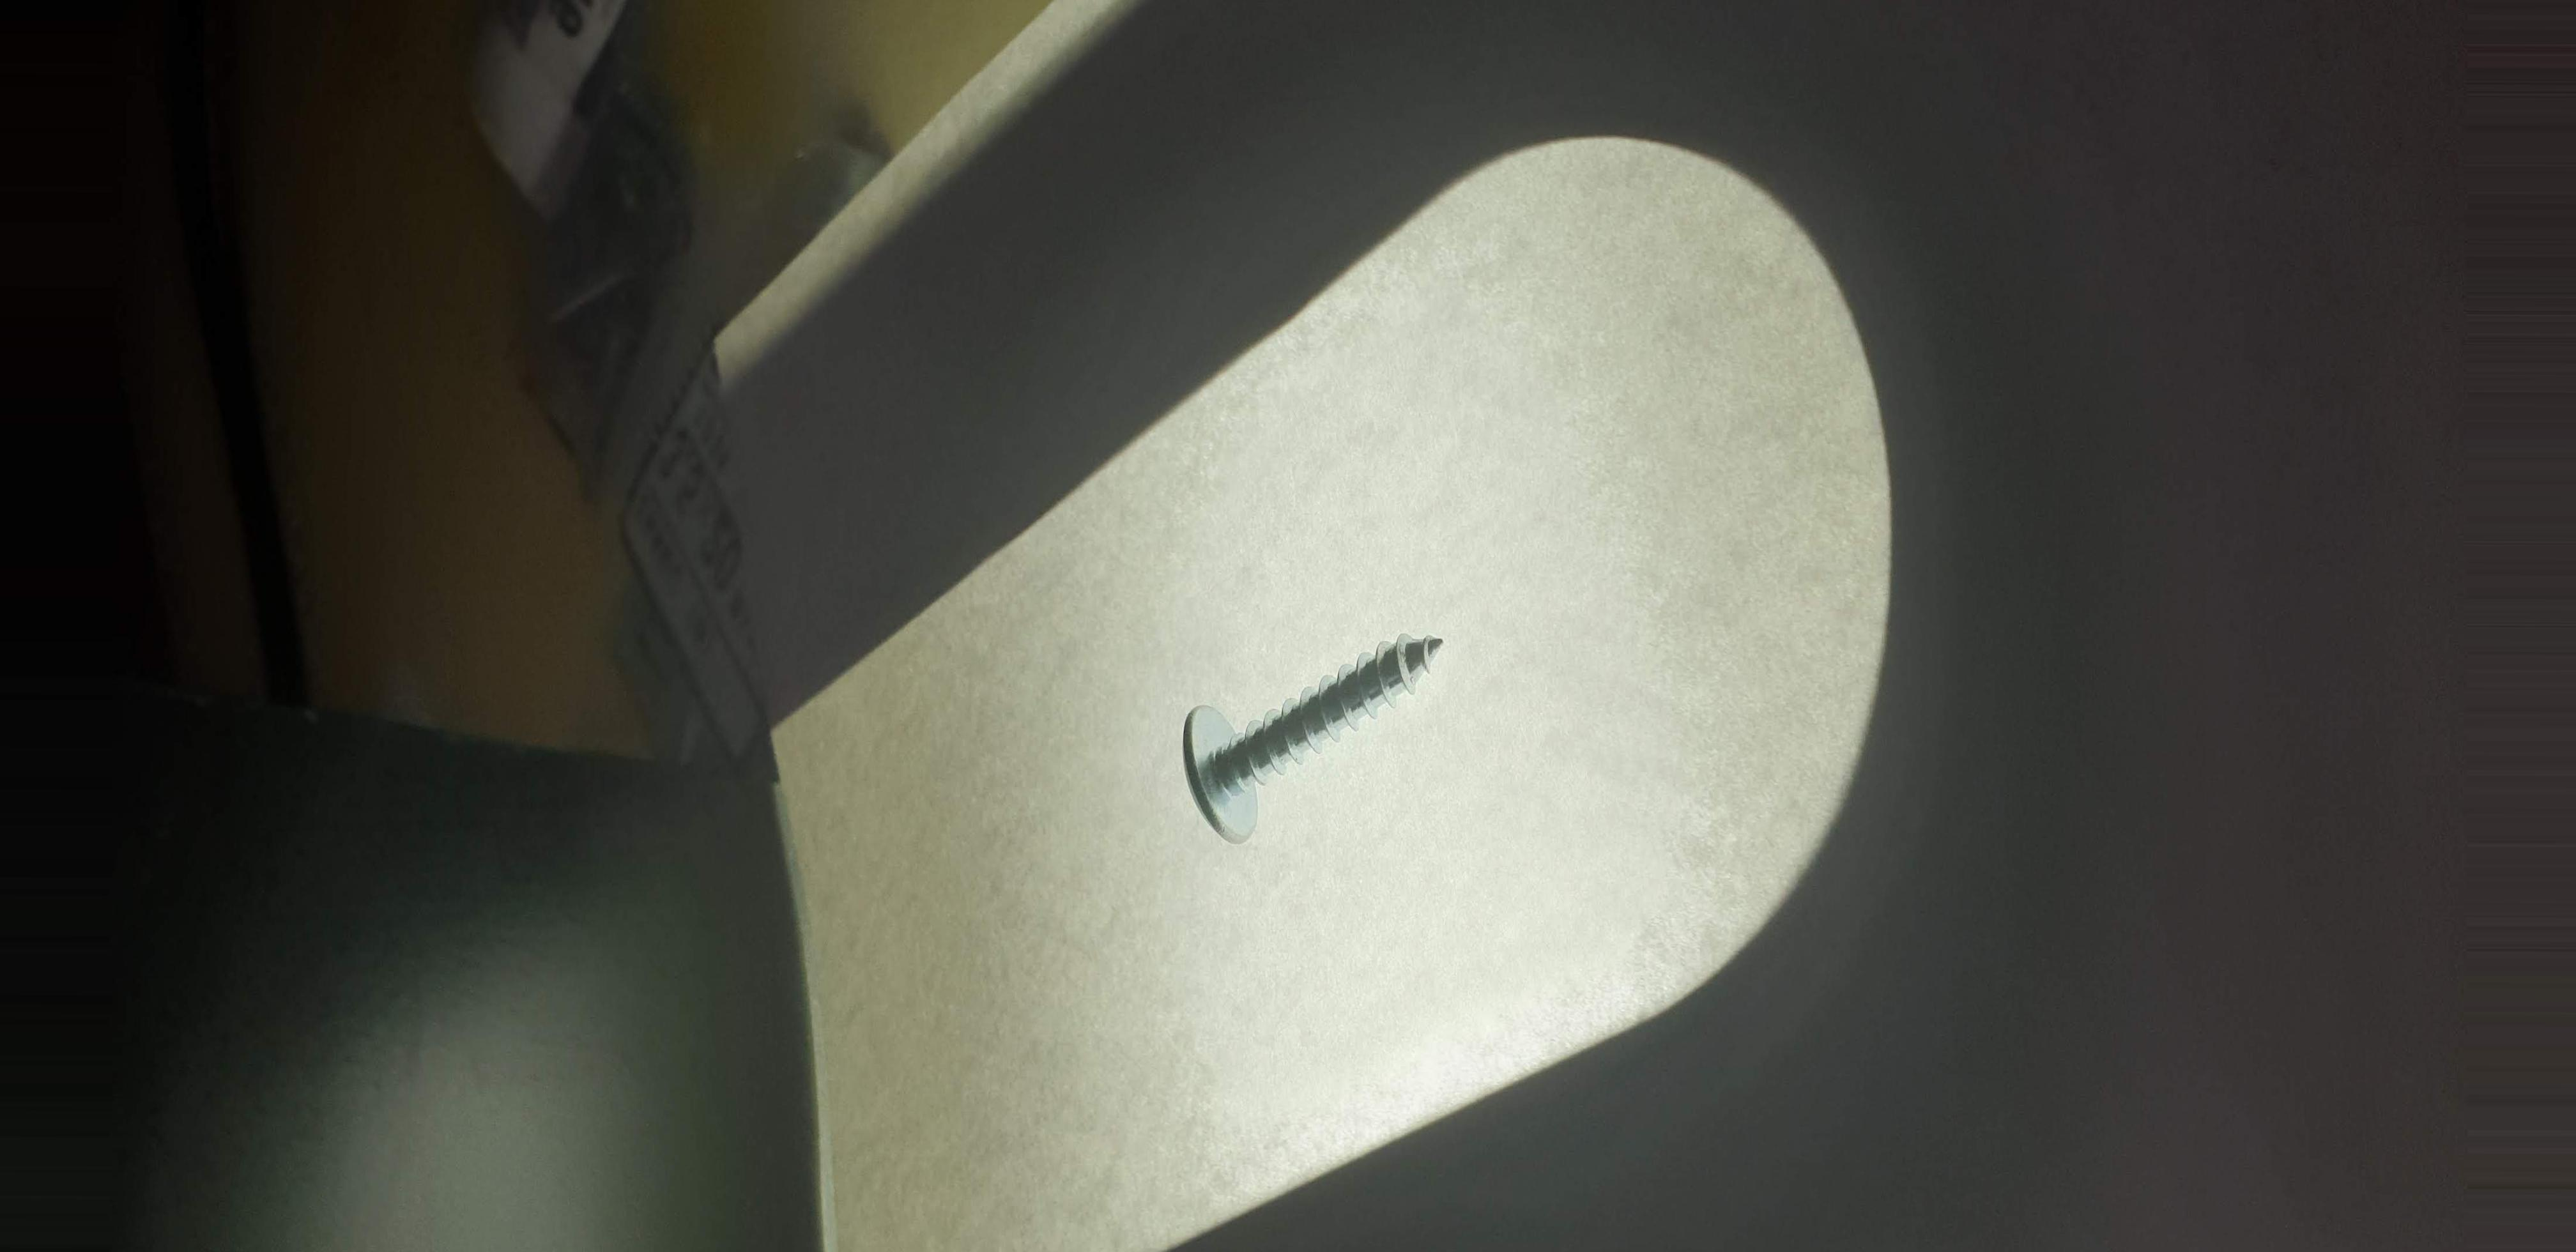S002: (1138, 588, 1498, 881)
